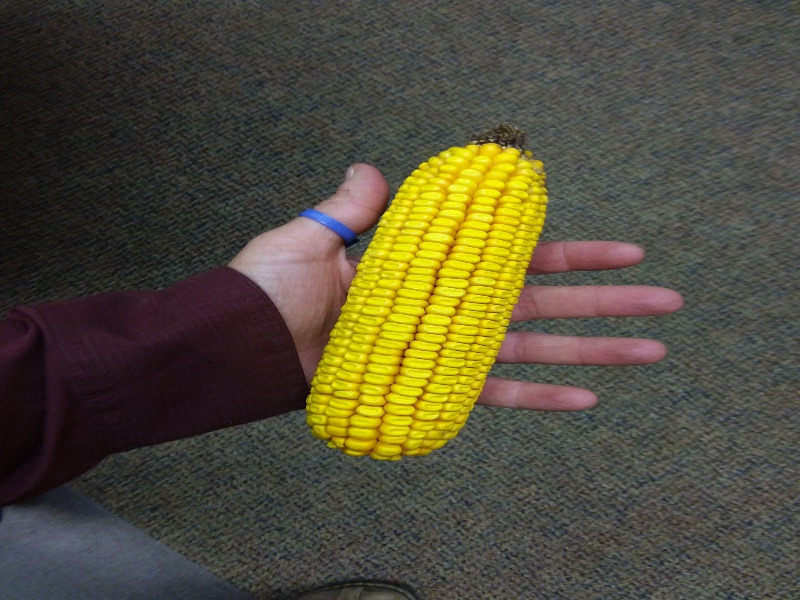band: (294, 204, 362, 245)
ear: (303, 118, 553, 464)
